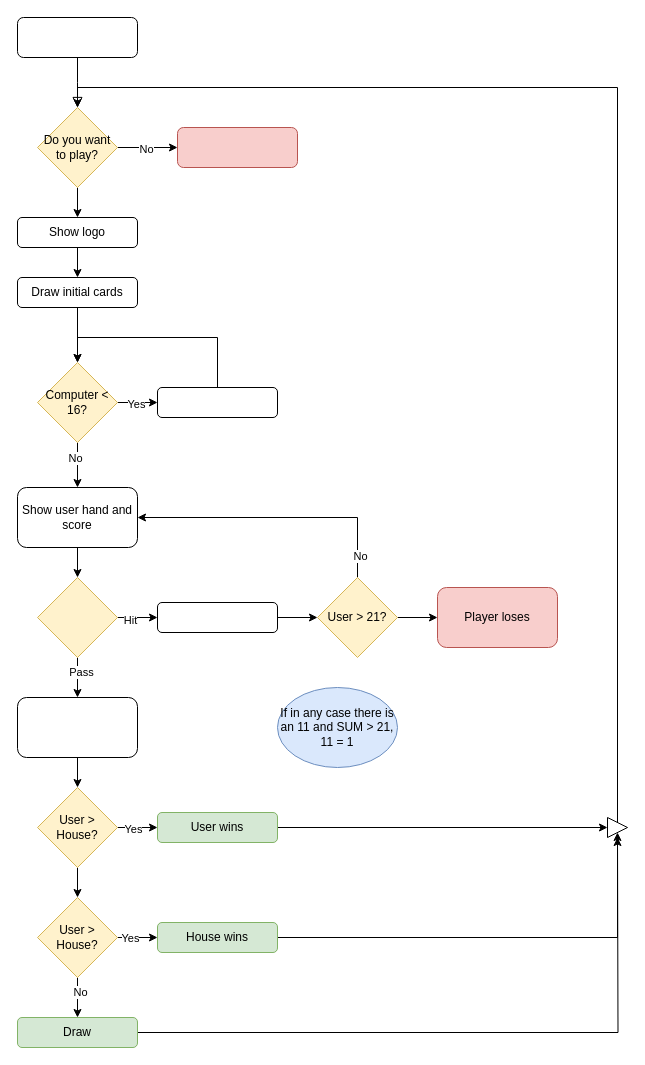
Image size: 645x1065. Some labels were removed from this diagram. Here are the shapes that lost their labels. From the top down, the centre of each, then its label:
the point at 77,37: START
the point at 237,147: Terminate app
the point at 217,402: Computer draws
the point at 77,617: Hit or Pass?
the point at 217,617: User draws
the point at 77,727: Show House hand and score
